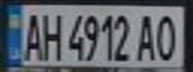1: (100, 10, 118, 61)
2: (112, 10, 133, 62)
4: (63, 9, 84, 61)
9: (81, 10, 100, 61)
A: (18, 9, 45, 62), (133, 10, 160, 62)
H: (36, 8, 63, 61)
O: (151, 10, 181, 62)
